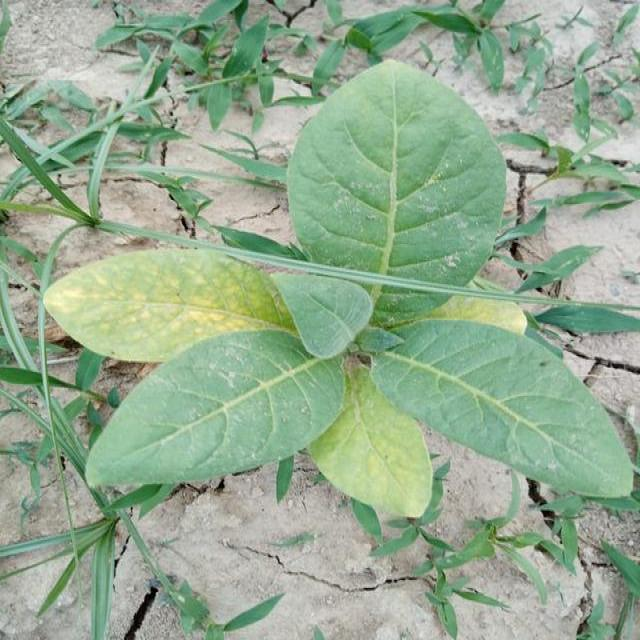crop: (54, 68, 628, 523)
